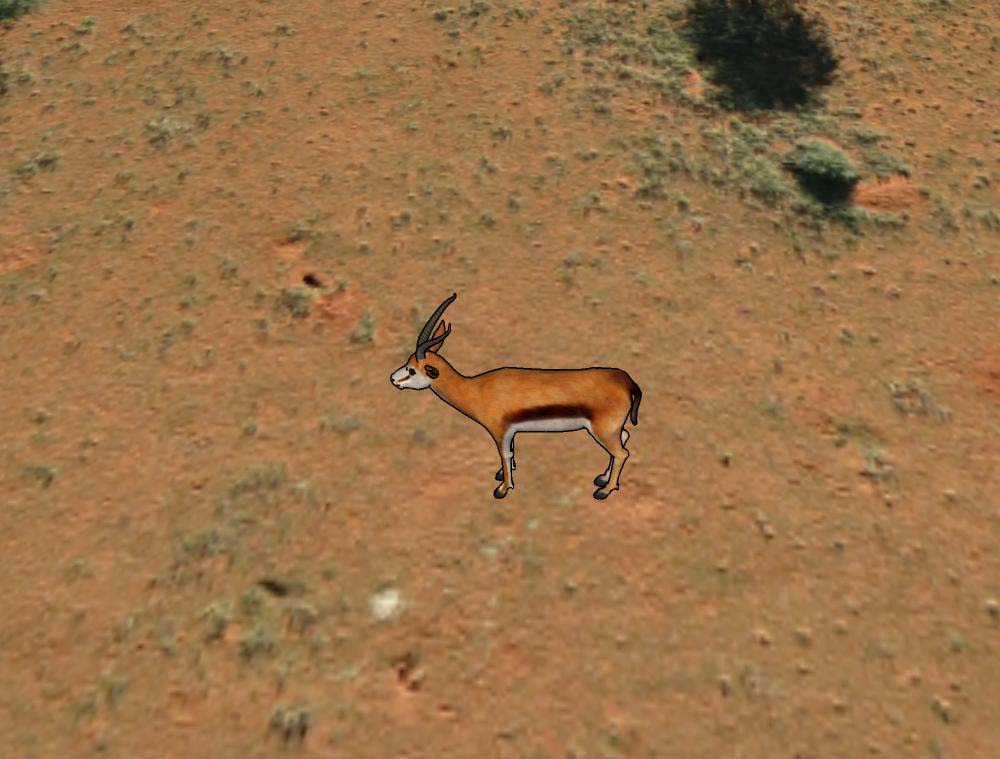springbok: (389, 292, 646, 505)
